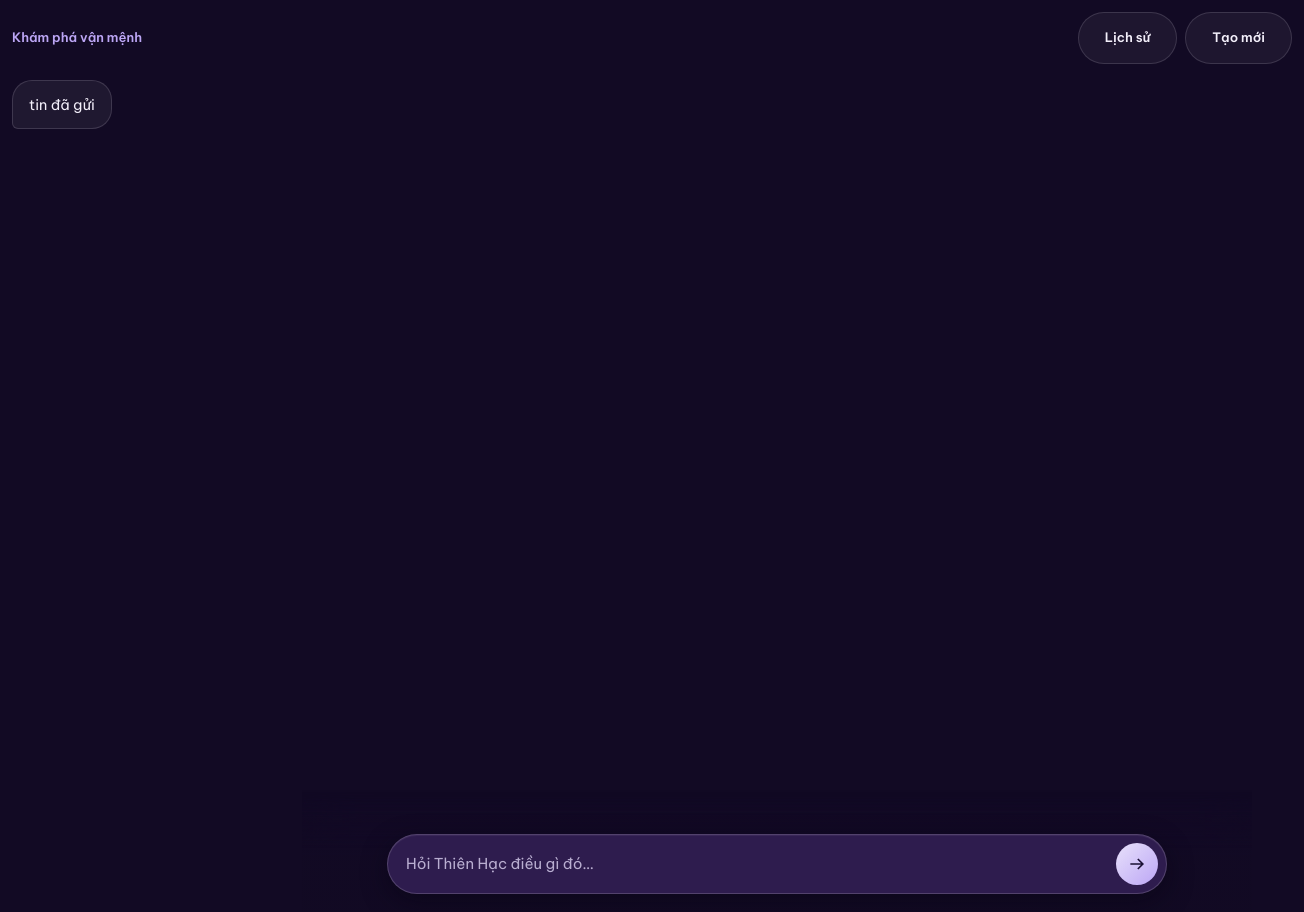
Test case: HoiAiScreen › reconciles a duplicate in-progress stream from the stored assistant message
Expected: the text "tin đã gửi" is shown, [29,94,95,115]
Type "Hỏi lại cùng key" into the field with placeholder "Hỏi Thiên Hạc điều gì đó…" at {"x": 756, "y": 864}, box [406,853,1106,875]
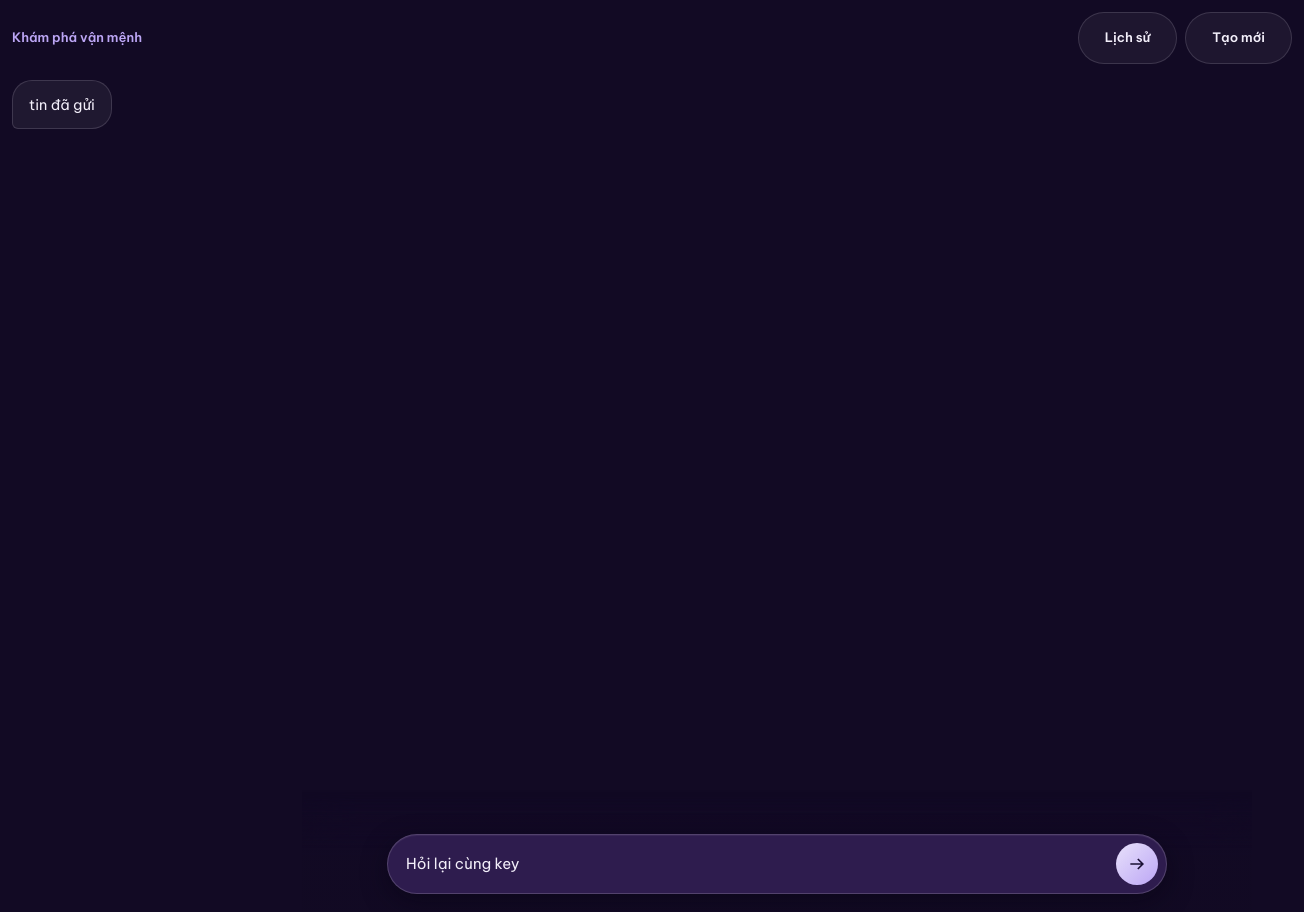
Click the button named "Gửi" at {"x": 1137, "y": 864}, box [1116,843,1158,885]
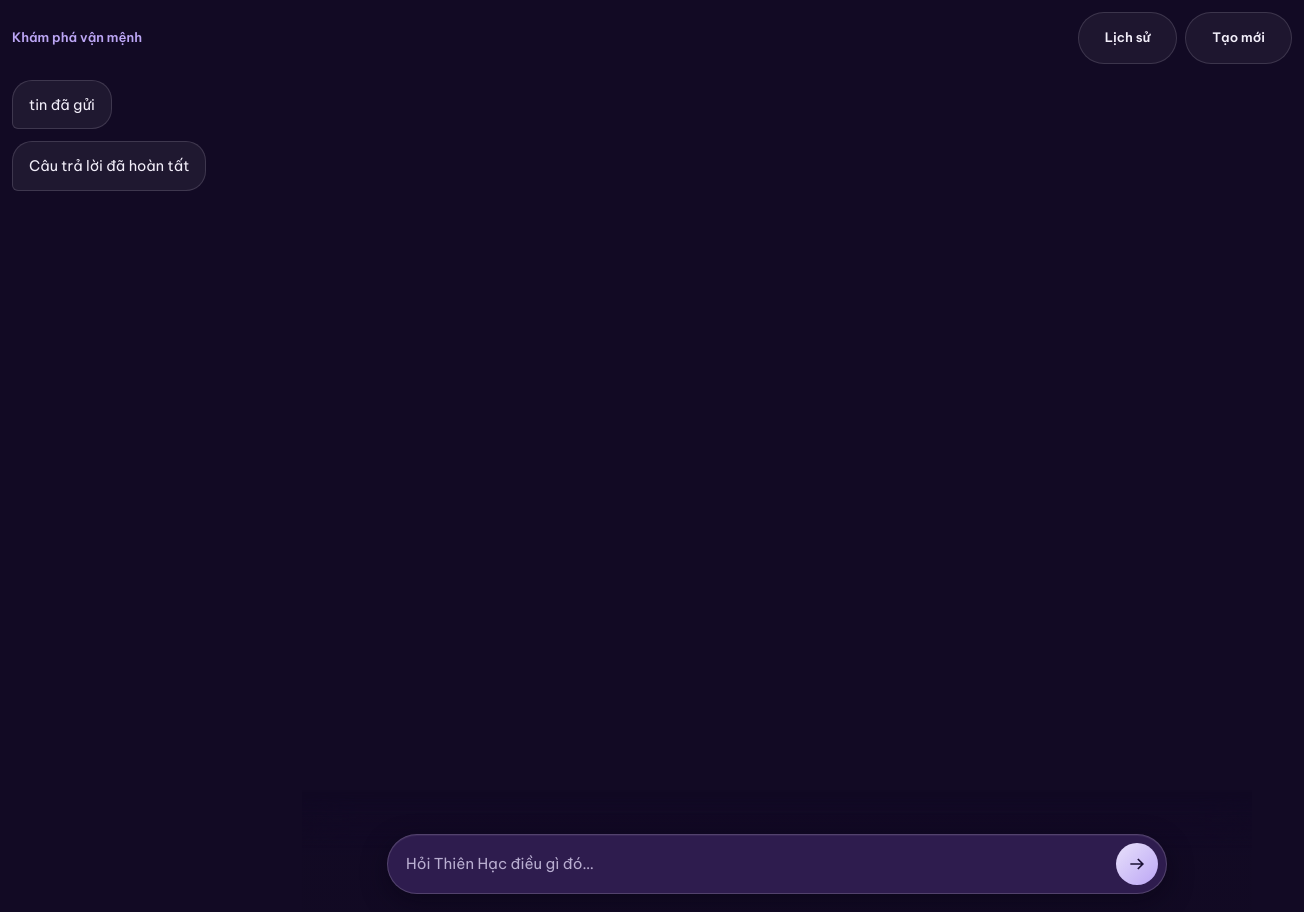
Expected: the text "Câu trả lời đã hoàn tất" is shown, [29,155,189,177]
